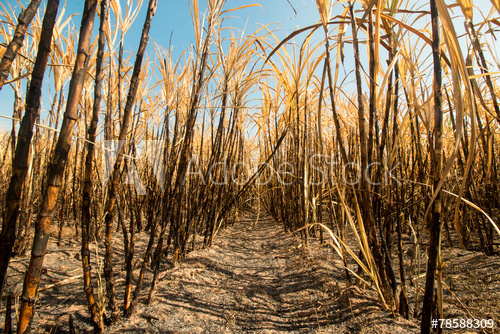sugarcane: (225, 1, 483, 312), (1, 1, 180, 330)
